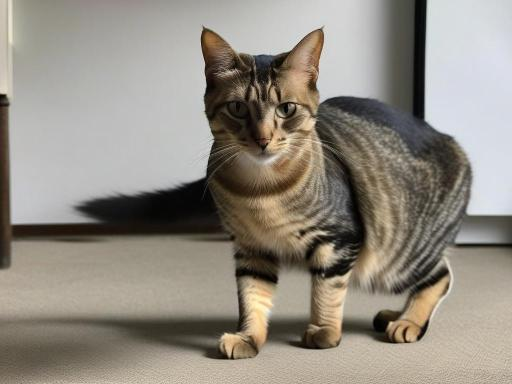cat_standing: (200, 29, 472, 358)
